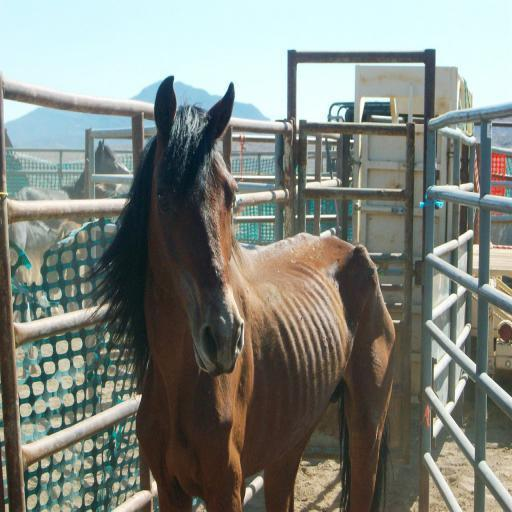horse: (83, 76, 397, 512), (7, 136, 138, 380), (7, 218, 93, 378), (10, 138, 132, 233)
